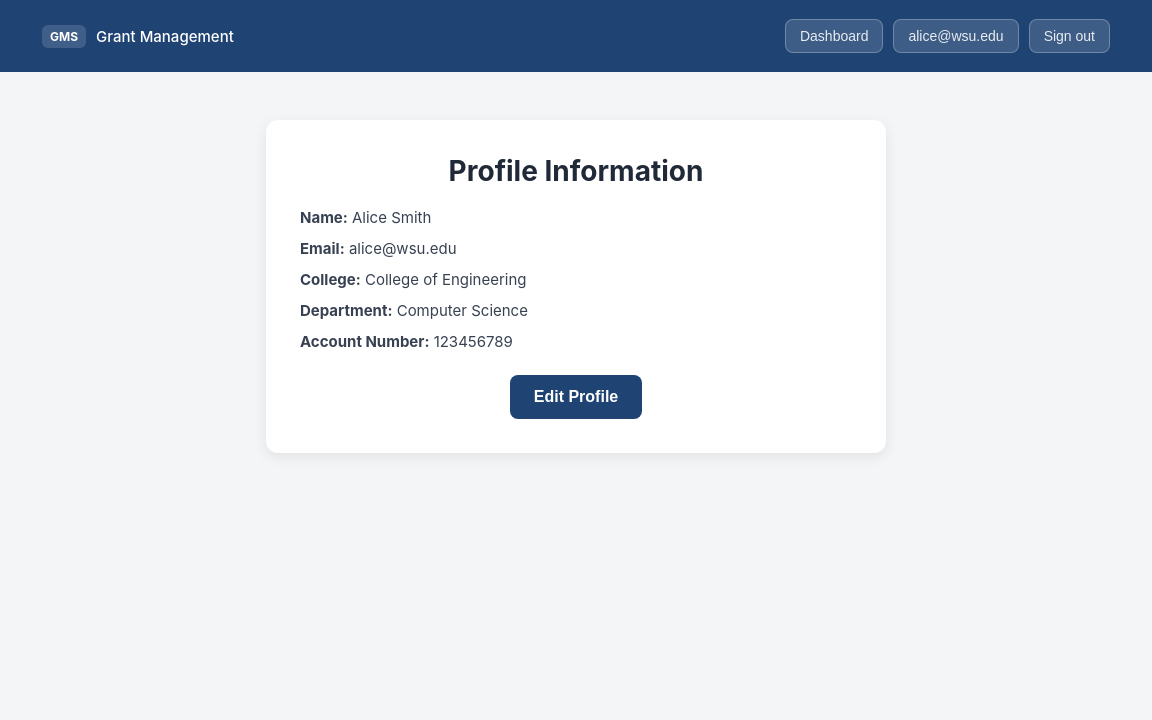
Profile › switches to edit mode and pre-fills the form
The width and height of the screenshot is (1152, 720).
Click the button "Edit Profile" at [576, 397], box [510,375,642,419]
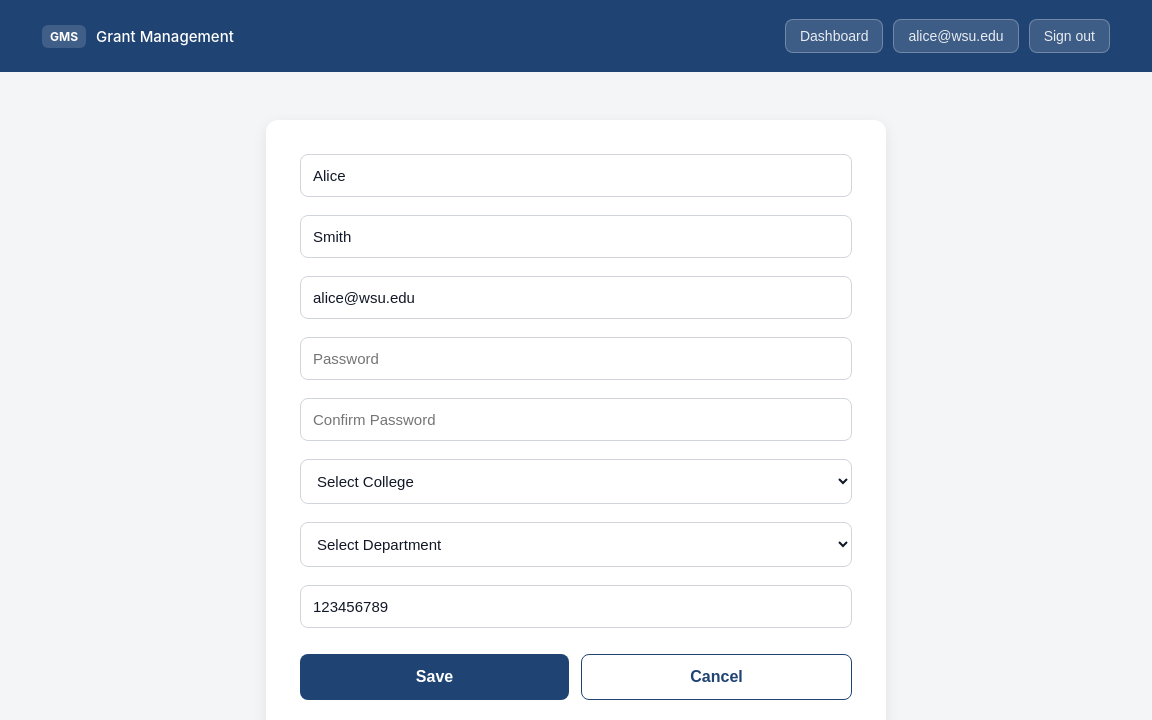
Now the 1st field with placeholder "First Name" holds "Alice", box [300,154,852,197]
Now the 3rd field with placeholder "Email" holds "alice@wsu.edu", box [300,276,852,319]
Now the 4th field with placeholder "Account Number" holds "123456789", box [300,585,852,628]
